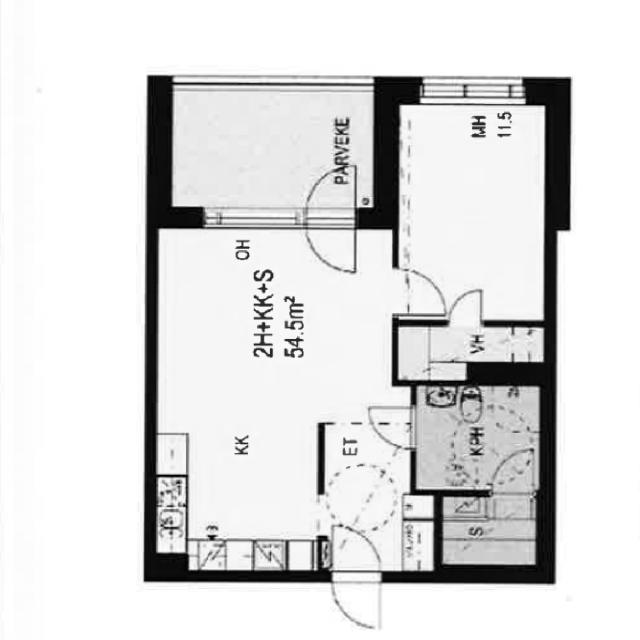door: (323, 522, 396, 638), (300, 156, 368, 276), (362, 401, 422, 453), (482, 451, 538, 500), (396, 265, 446, 318), (449, 278, 481, 322)
window: (416, 73, 541, 109), (195, 206, 309, 236)
zone: (140, 212, 410, 575), (392, 91, 546, 328), (412, 388, 544, 493), (442, 491, 540, 570)
